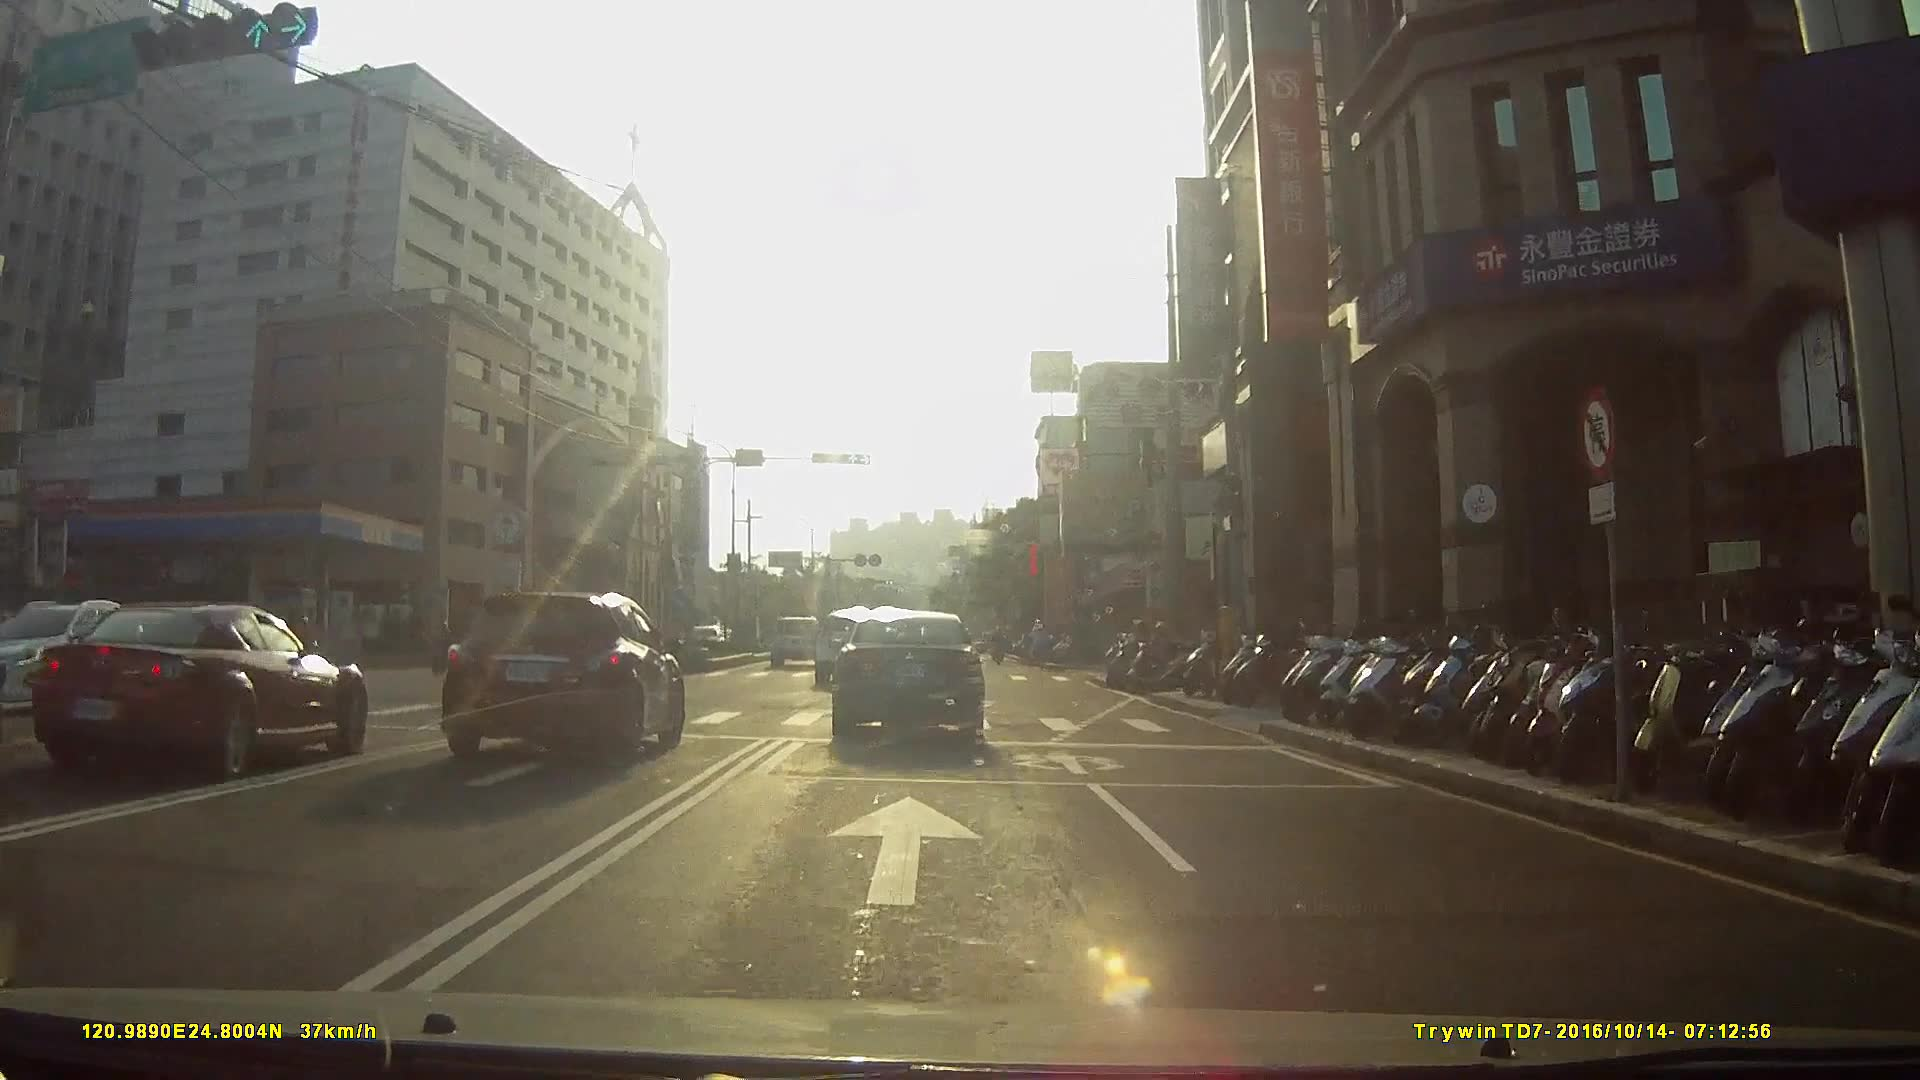rider: (1119, 620, 1203, 694)
vehicle: (15, 593, 380, 791), (432, 588, 702, 769), (825, 607, 1000, 745), (814, 606, 893, 690), (770, 613, 829, 668)
